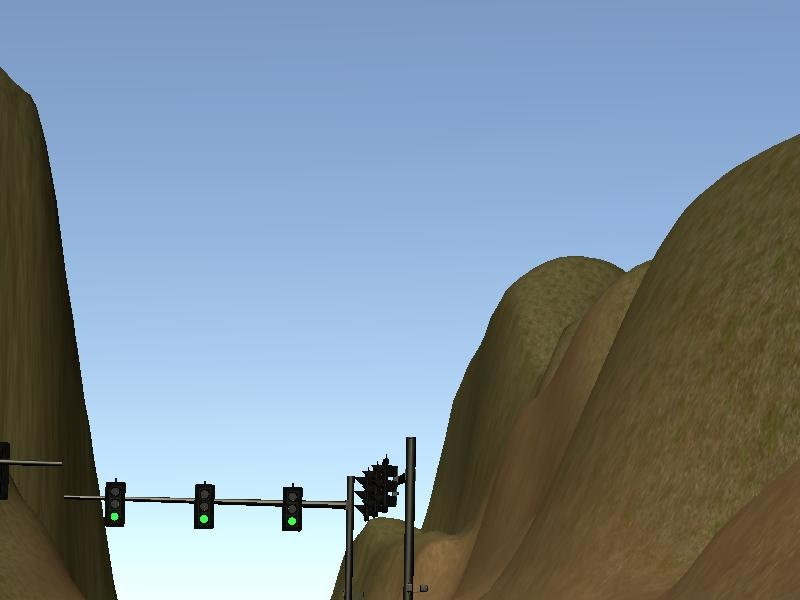green: (190, 482, 219, 535), (280, 485, 307, 535), (107, 478, 124, 529)
